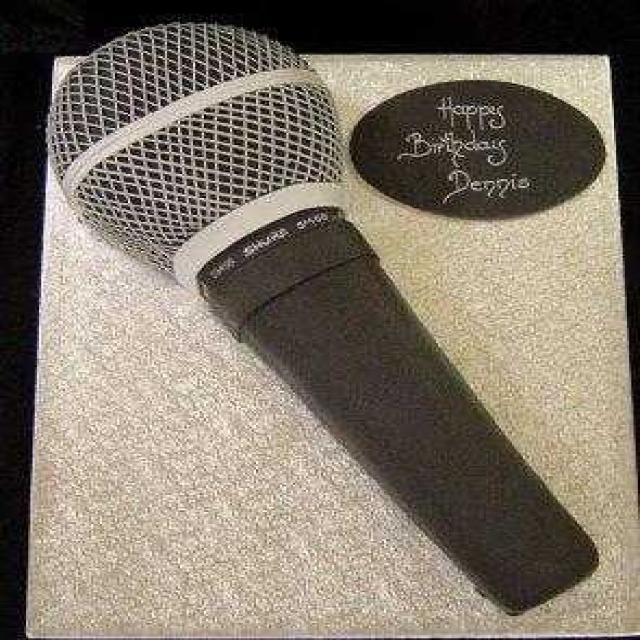microphone: (41, 5, 569, 524)
